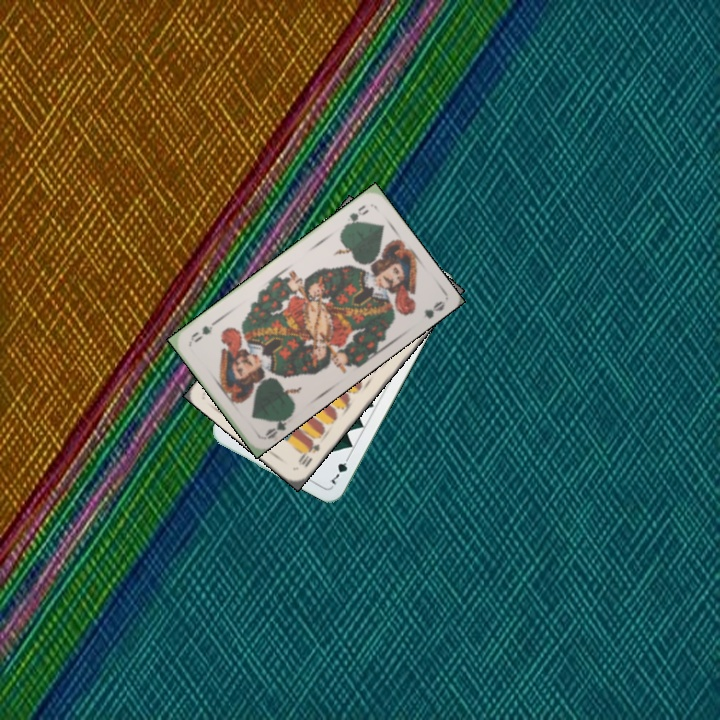E10: (294, 437, 323, 470)
G7: (325, 451, 353, 487)
GO: (260, 412, 294, 442), (339, 201, 371, 232)
